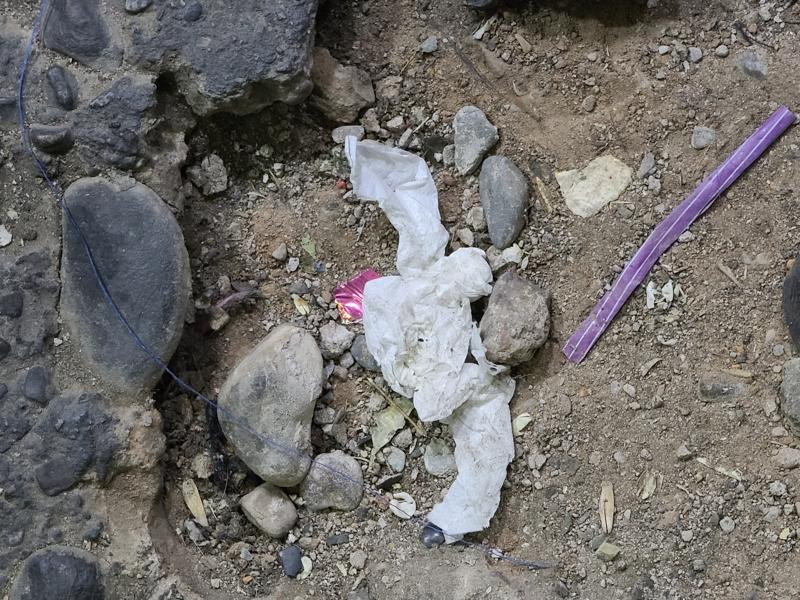papel: (337, 129, 519, 547)
